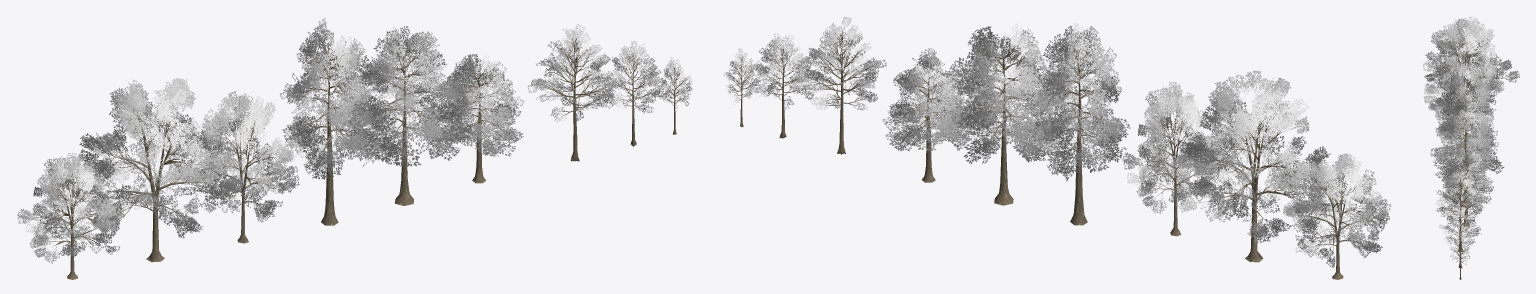
Rendered from V2_Prime_Trees_1A1.fbx.
The picture shows the model from 3 angles, left to right: view 1: azimuth 30°, elevation 25°; view 2: azimuth 150°, elevation 25°; view 3: azimuth 270°, elevation 25°; orthographic projection. The views are drawn at different scales.
Parts seen in each view (by area): view 1: Branched_Tree_2A2, Branched_Tree_2B2, Branched_Tree_2B1, Branched_Tree_2A3, Branched_Tree_2A1, Branched_Tree_2B3, Branched_Tree_2C1, Branched_Tree_2C2, Branched_Tree_2C3, Branched_Tree_1B1_1, Branched_Tree_1B2_1, Branched_Tree_1C1_1; view 2: Branched_Tree_2A2, Branched_Tree_2B2, Branched_Tree_2B1, Branched_Tree_2A1, Branched_Tree_2A3, Branched_Tree_2B3, Branched_Tree_2C1, Branched_Tree_2C2, Branched_Tree_2C3, Branched_Tree_1B1_1, Branched_Tree_1B2_1, Branched_Tree_1C1_1; view 3: Branched_Tree_2A2, Branched_Tree_2B2, Branched_Tree_2B1, Branched_Tree_2B3, Branched_Tree_2C1, Branched_Tree_2A3, Branched_Tree_2C2, Branched_Tree_2A1, Branched_Tree_2C3, Branched_Tree_1C1_1, Branched_Tree_1B3_1.
Boxes of the visible parts, bbox=[...] form: Branched_Tree_2A2: bbox=[71, 77, 243, 262]; Branched_Tree_2B2: bbox=[347, 26, 464, 205]; Branched_Tree_2B1: bbox=[280, 17, 377, 217]; Branched_Tree_2A3: bbox=[191, 91, 299, 243]; Branched_Tree_2A1: bbox=[17, 153, 122, 279]; Branched_Tree_2B3: bbox=[437, 54, 524, 178]; Branched_Tree_2C1: bbox=[527, 24, 622, 161]; Branched_Tree_2C2: bbox=[600, 41, 664, 146]; Branched_Tree_2C3: bbox=[659, 57, 692, 134]; Branched_Tree_1B1_1: bbox=[308, 46, 352, 225]; Branched_Tree_1B2_1: bbox=[370, 36, 434, 205]; Branched_Tree_1C1_1: bbox=[544, 40, 598, 161]; Branched_Tree_2A2: bbox=[1176, 70, 1339, 262]; Branched_Tree_2B2: bbox=[943, 23, 1065, 205]; Branched_Tree_2B1: bbox=[1032, 23, 1130, 225]; Branched_Tree_2A1: bbox=[1283, 153, 1390, 279]; Branched_Tree_2A3: bbox=[1122, 82, 1223, 236]; Branched_Tree_2B3: bbox=[882, 48, 970, 177]; Branched_Tree_2C1: bbox=[798, 16, 886, 154]; Branched_Tree_2C2: bbox=[748, 33, 815, 138]; Branched_Tree_2C3: bbox=[723, 48, 760, 126]; Branched_Tree_1B1_1: bbox=[1055, 44, 1100, 225]; Branched_Tree_1B2_1: bbox=[965, 50, 1027, 205]; Branched_Tree_1C1_1: bbox=[818, 34, 868, 153]; Branched_Tree_2A2: bbox=[1423, 17, 1519, 131]; Branched_Tree_2B2: bbox=[1430, 94, 1504, 204]; Branched_Tree_2B1: bbox=[1435, 62, 1496, 179]; Branched_Tree_2B3: bbox=[1439, 148, 1493, 223]; Branched_Tree_2C1: bbox=[1436, 171, 1486, 251]; Branched_Tree_2A3: bbox=[1428, 63, 1489, 146]; Branched_Tree_2C2: bbox=[1438, 204, 1481, 268]; Branched_Tree_2A1: bbox=[1436, 31, 1499, 91]; Branched_Tree_2C3: bbox=[1450, 233, 1469, 279]; Branched_Tree_1C1_1: bbox=[1445, 181, 1475, 251]; Branched_Tree_1B3_1: bbox=[1457, 160, 1471, 226].
Size of the model in its own units: 7943 by 2356 by 1733.
